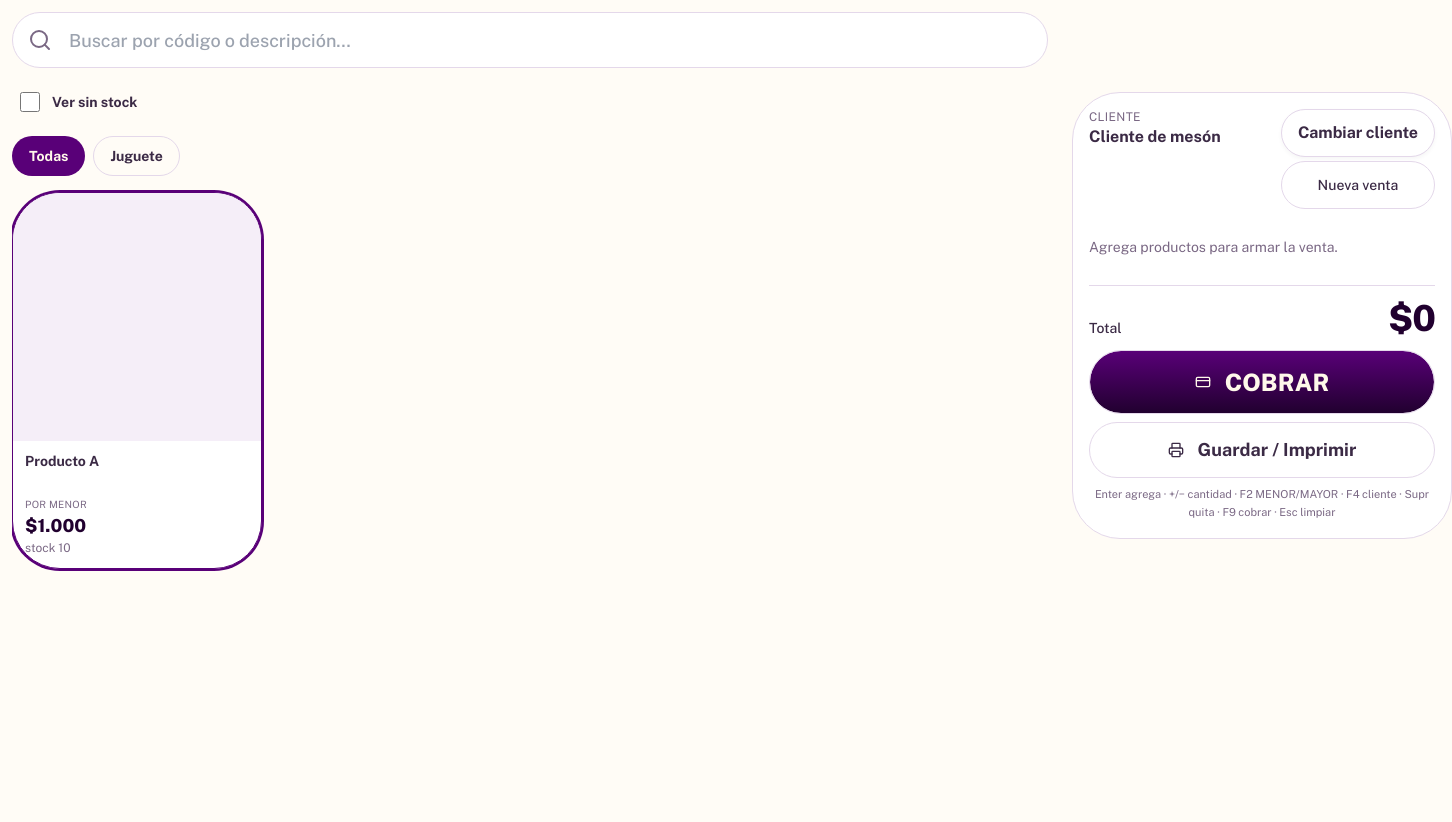
Scenario: POS pos2 — race y teclado › atajos no disparan con texto en el buscador; sí con la búsqueda vacía
The image size is (1452, 822).
Click the button with test id "pos-producto-GL1" at (137, 380), box [12,192,262,569]
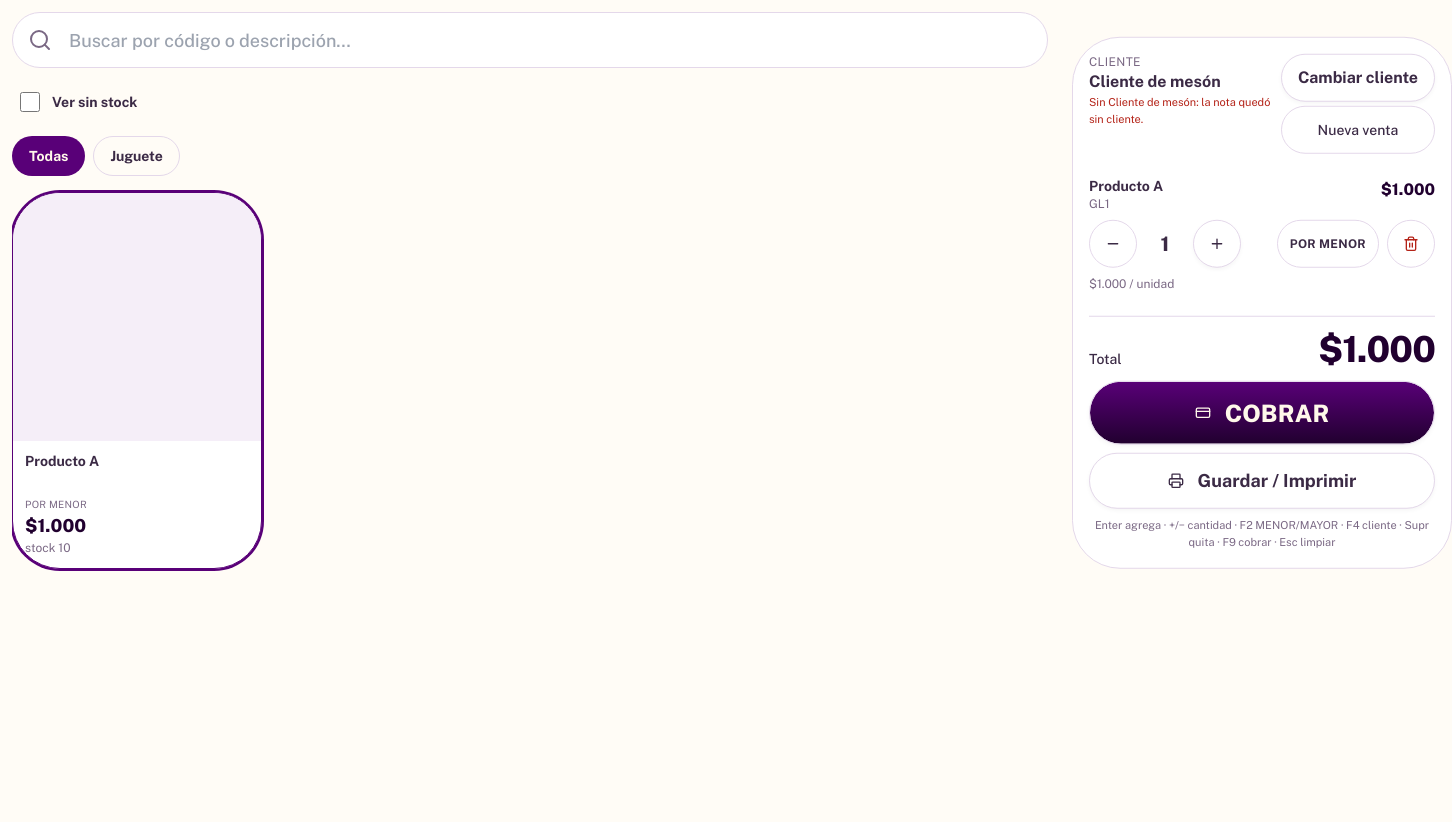
Check: the text with test id "pos-cantidad-GL1" reads "1", box [1161,231,1169,255]
Type "GL" into the field with placeholder "Buscar por código o descripción…" at (530, 40), box [12,12,1048,68]
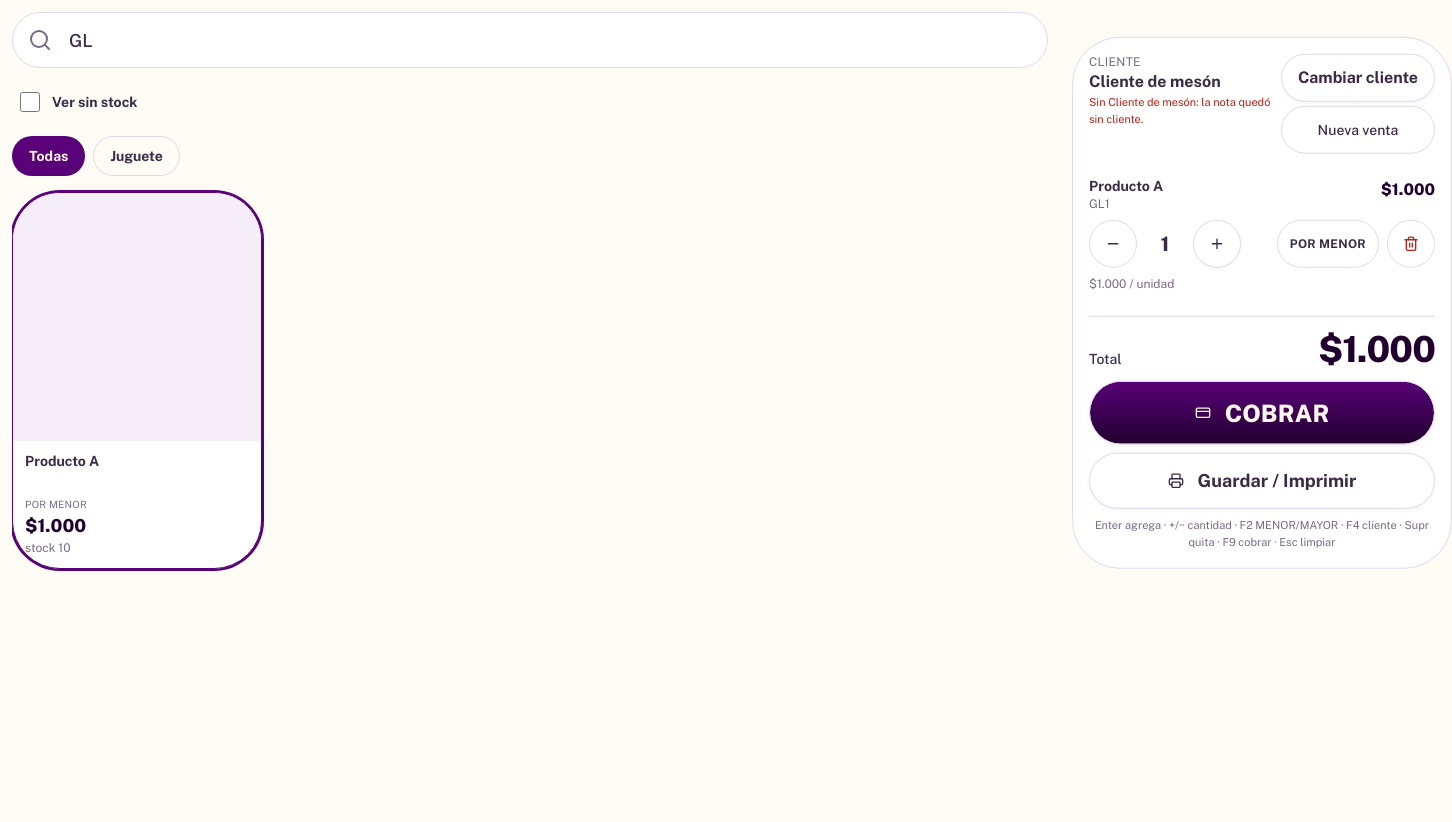
Press + in the field with placeholder "Buscar por código o descripción…", box [12,12,1048,68]
Clear the field with placeholder "Buscar por código o descripción…" at (530, 40), box [12,12,1048,68]
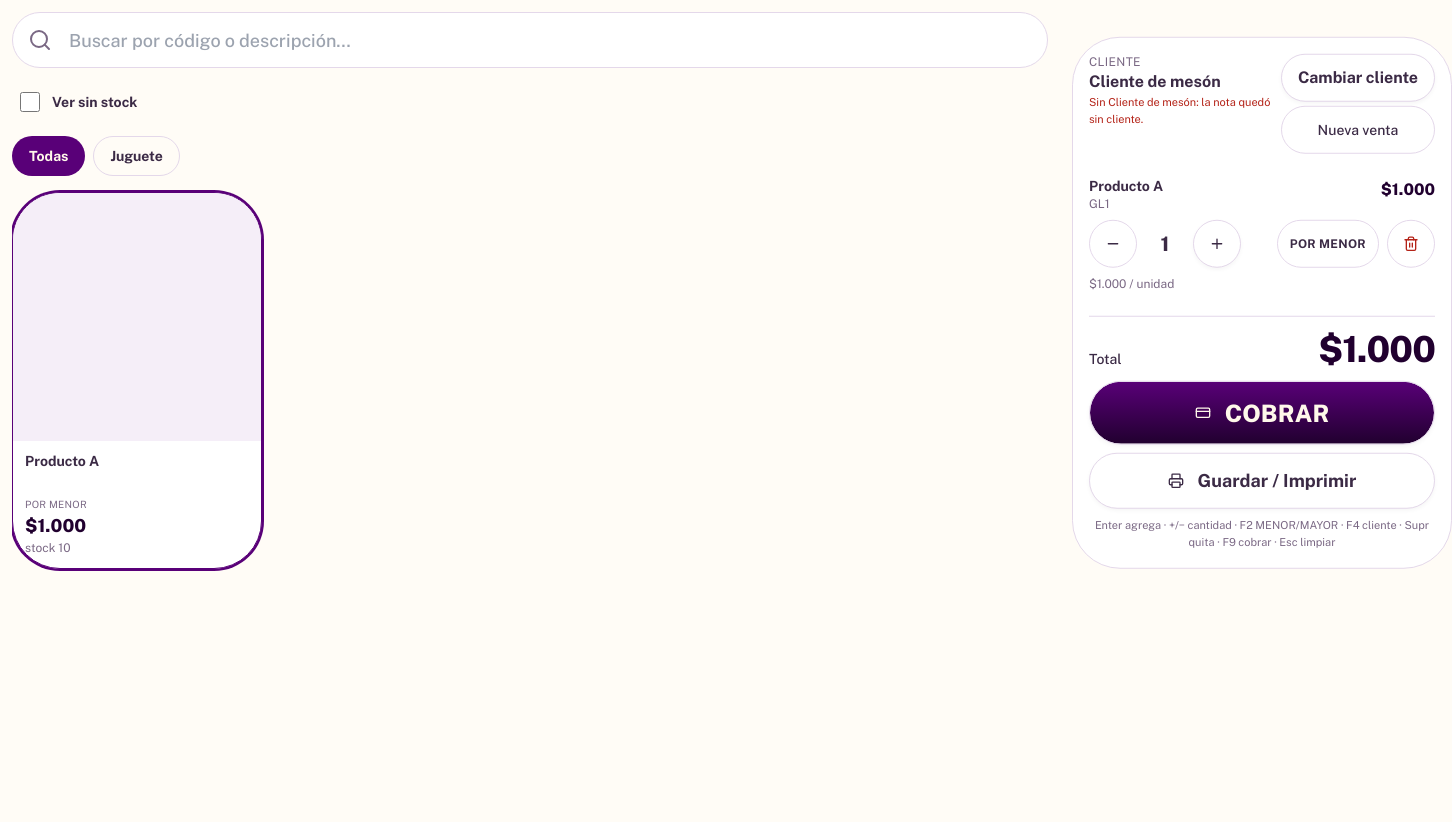
Press +
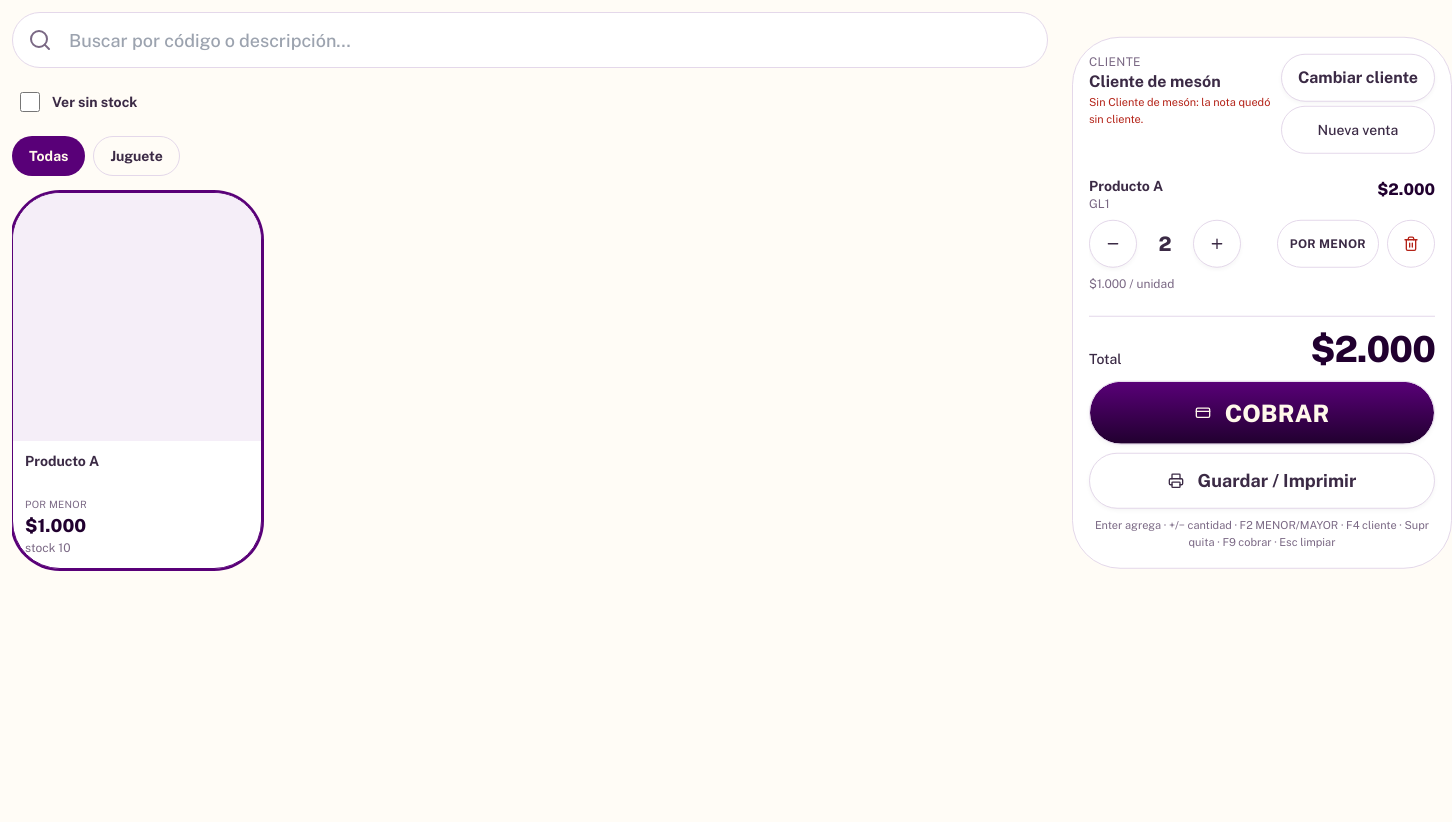
Check: the text with test id "pos-cantidad-GL1" reads "2", box [1158,231,1172,255]
